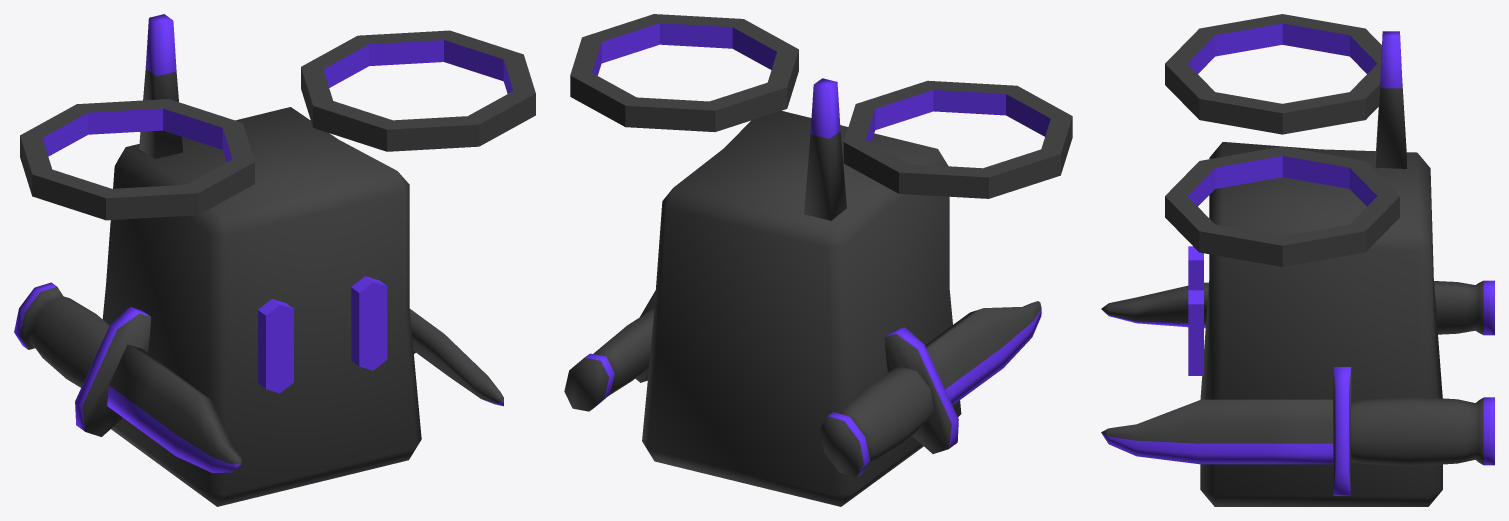
Rendered from CubeDroneSword.fbx.
The picture shows the model from 3 angles, left to right: view 1: azimuth 30°, elevation 25°; view 2: azimuth 150°, elevation 25°; view 3: azimuth 270°, elevation 25°; orthographic projection. The views are drawn at different scales.
Parts seen in each view (by area): view 1: CubeDroneSword; view 2: CubeDroneSword; view 3: CubeDroneSword.
Boxes of the visible parts, left/top/right/bottom form: CubeDroneSword: left=14, top=14, right=535, bottom=506; CubeDroneSword: left=564, top=14, right=1072, bottom=506; CubeDroneSword: left=1101, top=14, right=1494, bottom=506.
Bounding box in the file's own units: 140 × 112 × 101.
1 material, 1 textured.
